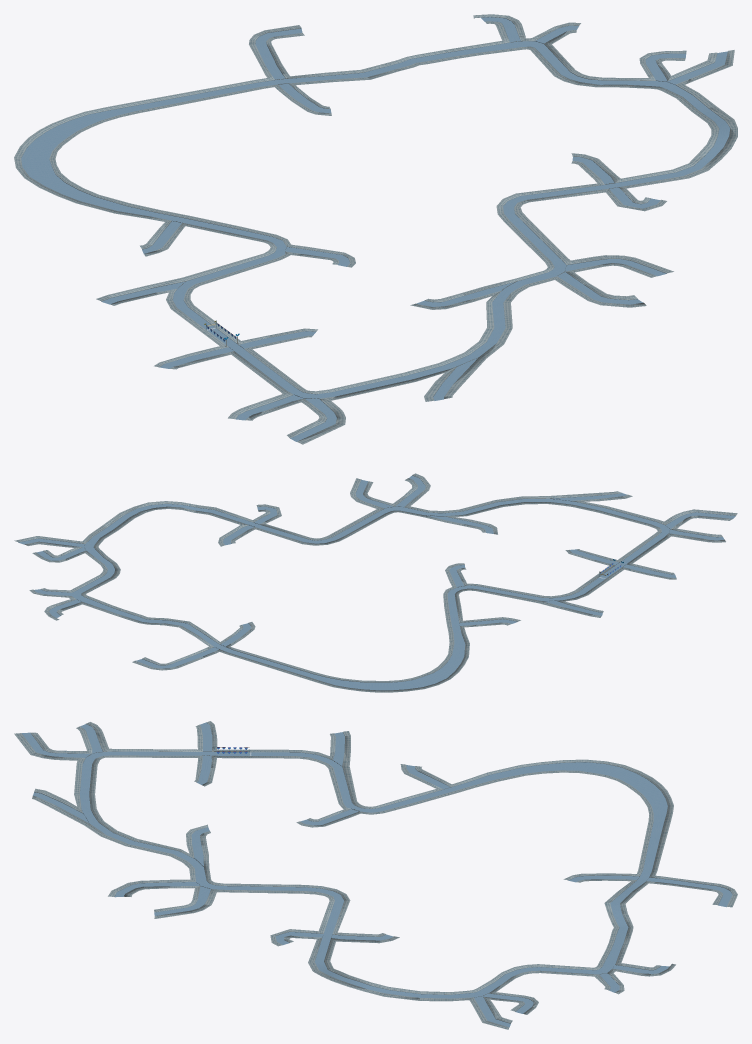
File: urban_b.glb
3 renders of one model, top to bottom at view 1: azimuth 30°, elevation 25°; view 2: azimuth 150°, elevation 25°; view 3: azimuth 270°, elevation 25°, orthographic. The views are drawn at different scales.
Parts seen in each view (by area): view 1: sidewalk, urbanB_track_all; view 2: sidewalk, urbanB_track_all; view 3: sidewalk, urbanB_track_all.
Part boxes in pixels (left/top/right/bottom): sidewalk: left=14, top=14, right=737, bottom=444; urbanB_track_all: left=21, top=17, right=730, bottom=441; sidewalk: left=14, top=473, right=737, bottom=692; urbanB_track_all: left=18, top=475, right=735, bottom=690; sidewalk: left=14, top=721, right=737, bottom=1029; urbanB_track_all: left=22, top=722, right=732, bottom=1027.
Size of what is drawn, in the model's own units: 7912 by 103 by 7828.
Materials: 11 (11 with a texture image).
